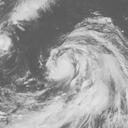cyclone: (43, 15, 126, 99)
